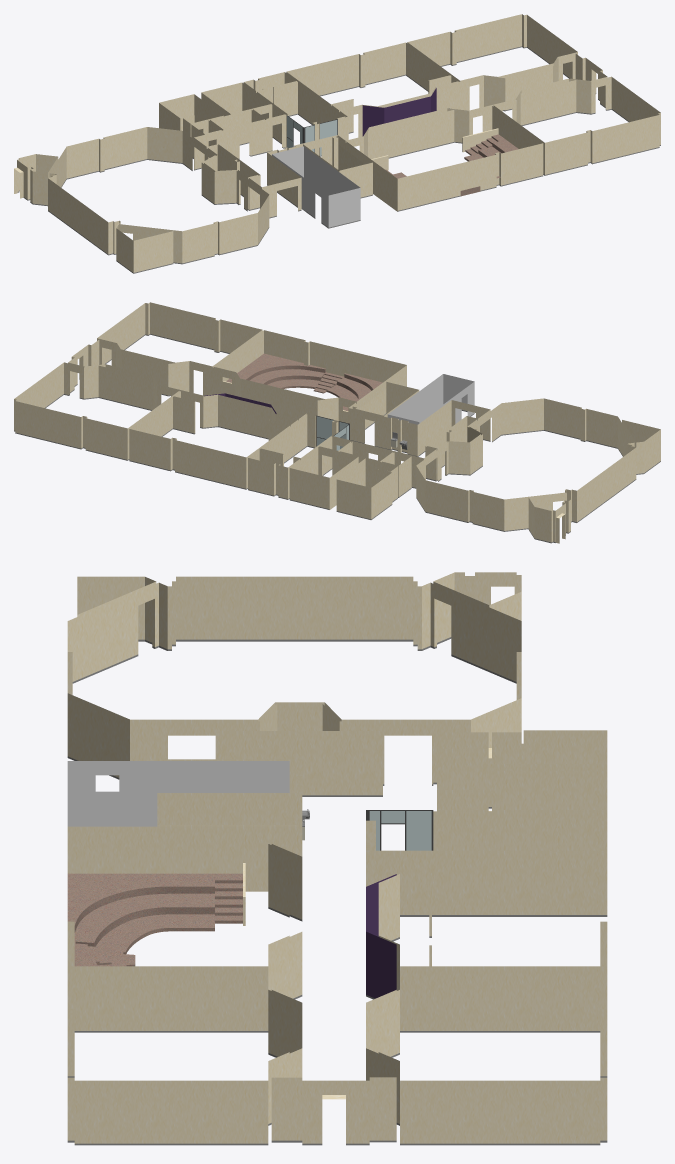
The model's file is COBA 2nd Floor.fbx.
The picture shows the model from 3 angles, top to bottom: view 1: azimuth 30°, elevation 25°; view 2: azimuth 150°, elevation 25°; view 3: azimuth 270°, elevation 25°; orthographic projection. The views are drawn at different scales.
Parts seen in each view (by area): view 1: o_2_floor_walls.005, o_2_floor_walls.004, o_2_floor_walls.002, o_2_floor_walls.011, o_2_floor_walls.003, o_2_floor_walls.006, o_2_floor_walls.009, o_2_floor_walls, o_2_floor_walls.007, o_2_floor_walls.008, o_215_test_floor, o_2_floor_walls.010 (+2 smaller); view 2: o_2_floor_walls.005, o_2_floor_walls.004, o_2_floor_walls.003, o_2_floor_walls.006, o_2_floor_walls.011, o_2_floor_walls.002, o_2_floor_walls, o_215_test_floor, o_2_floor_walls.007, o_2_floor_walls.009, o_2_floor_walls.008, o_2_floor_walls.010 (+1 smaller); view 3: o_2_floor_walls.005, o_2_floor_walls.004, o_2_floor_walls.006, o_2_floor_walls.011, o_2_floor_walls.003, o_2_floor_walls.002, o_215_test_floor, o_2_floor_walls.009, o_2_floor_walls.007, o_2_floor_walls, o_2_floor_walls.008, o_2_floor_walls.010 (+1 smaller).
Part boxes in pixels (x1=…): o_2_floor_walls.005: x1=14, y1=127, x2=269, y2=273; o_2_floor_walls.004: x1=194, y1=53, x2=607, y2=218; o_2_floor_walls.002: x1=346, y1=106, x2=543, y2=211; o_2_floor_walls.011: x1=493, y1=76, x2=660, y2=175; o_2_floor_walls.003: x1=286, y1=42, x2=458, y2=137; o_2_floor_walls.006: x1=407, y1=14, x2=577, y2=107; o_2_floor_walls.009: x1=272, y1=146, x2=360, y2=228; o_2_floor_walls: x1=159, y1=94, x2=223, y2=158; o_2_floor_walls.007: x1=201, y1=82, x2=285, y2=147; o_2_floor_walls.008: x1=303, y1=136, x2=372, y2=198; o_215_test_floor: x1=385, y1=134, x2=518, y2=196; o_2_floor_walls.010: x1=210, y1=109, x2=264, y2=155; o_2_floor_walls.005: x1=416, y1=398, x2=660, y2=543; o_2_floor_walls.004: x1=68, y1=339, x2=490, y2=499; o_2_floor_walls.003: x1=129, y1=391, x2=298, y2=489; o_2_floor_walls.006: x1=14, y1=362, x2=179, y2=460; o_2_floor_walls.011: x1=97, y1=302, x2=262, y2=392; o_2_floor_walls.002: x1=214, y1=330, x2=406, y2=421; o_2_floor_walls: x1=336, y1=452, x2=411, y2=519; o_215_test_floor: x1=226, y1=353, x2=382, y2=411; o_2_floor_walls.007: x1=289, y1=437, x2=358, y2=509; o_2_floor_walls.009: x1=387, y1=374, x2=474, y2=424; o_2_floor_walls.008: x1=351, y1=382, x2=419, y2=443; o_2_floor_walls.010: x1=339, y1=441, x2=393, y2=462; o_2_floor_walls.005: x1=67, y1=572, x2=521, y2=784; o_2_floor_walls.004: x1=166, y1=721, x2=607, y2=1145; o_2_floor_walls.006: x1=378, y1=968, x2=607, y2=1145; o_2_floor_walls.011: x1=67, y1=968, x2=289, y2=1145; o_2_floor_walls.003: x1=378, y1=852, x2=607, y2=990; o_2_floor_walls.002: x1=67, y1=826, x2=289, y2=990; o_215_test_floor: x1=67, y1=873, x2=242, y2=966; o_2_floor_walls.009: x1=67, y1=761, x2=289, y2=826; o_2_floor_walls.007: x1=437, y1=770, x2=607, y2=817; o_2_floor_walls: x1=437, y1=730, x2=607, y2=808; o_2_floor_walls.008: x1=157, y1=793, x2=298, y2=844; o_2_floor_walls.010: x1=437, y1=750, x2=488, y2=791.
Size of the model in its own units: 4678 by 274 by 2067.
